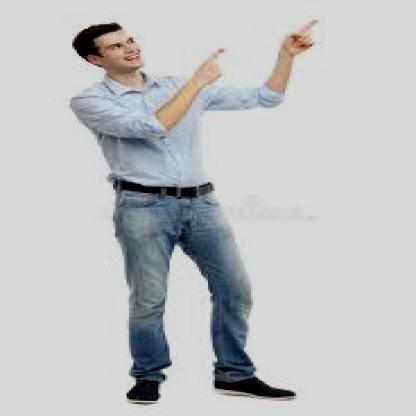Left: (267, 6, 343, 76), (177, 36, 239, 104)
